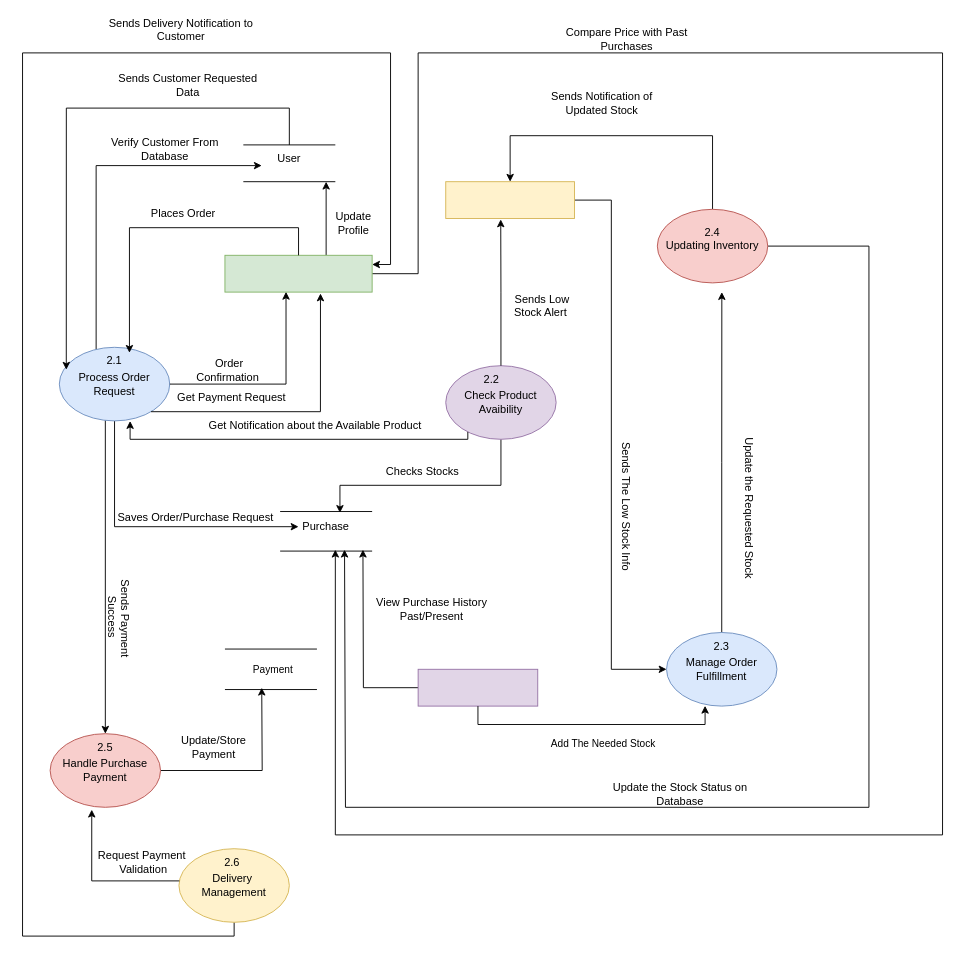
This 966x960 diagram has some shape labels left out. The shapes that lost their labels are listed below. From the top down, each one's centre as x and y in pixels, then its label:
pixel 510 199: Admin
pixel 298 273: Customer
pixel 477 687: Suppiler
